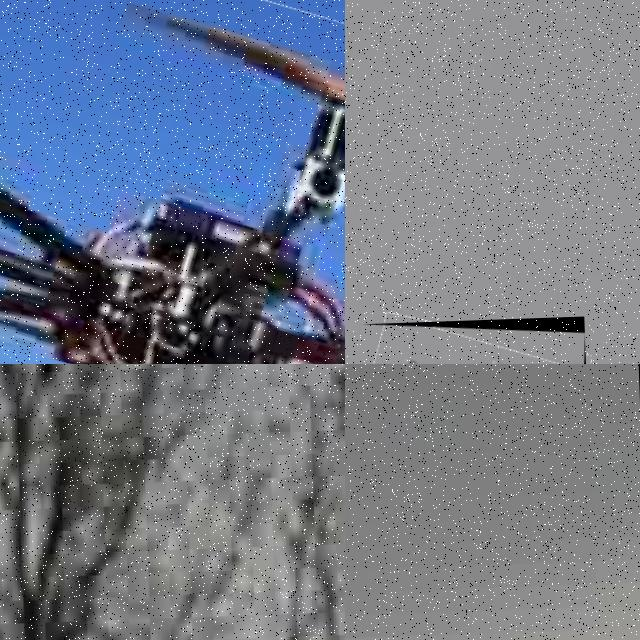drone: (0, 0, 345, 364), (361, 316, 589, 364)
